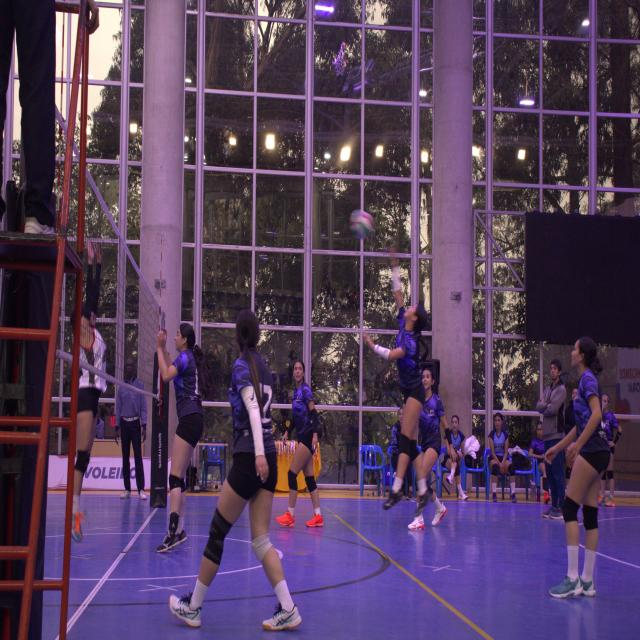volleyball: (349, 208, 374, 238)
